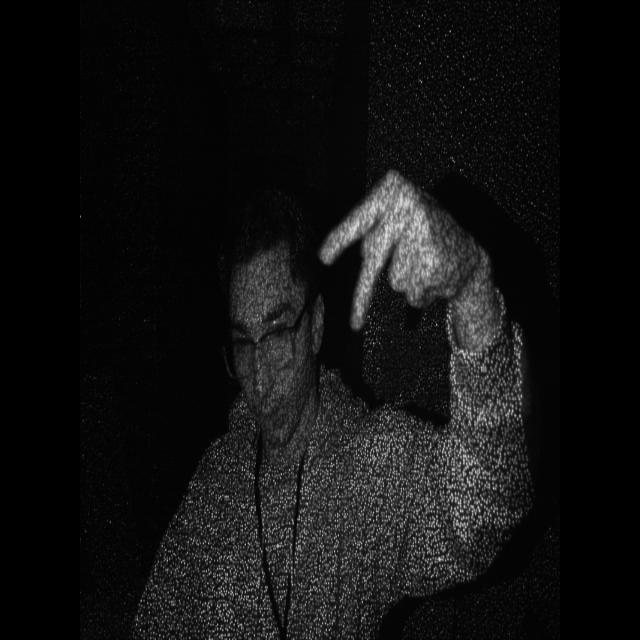P: (306, 151, 488, 343)
